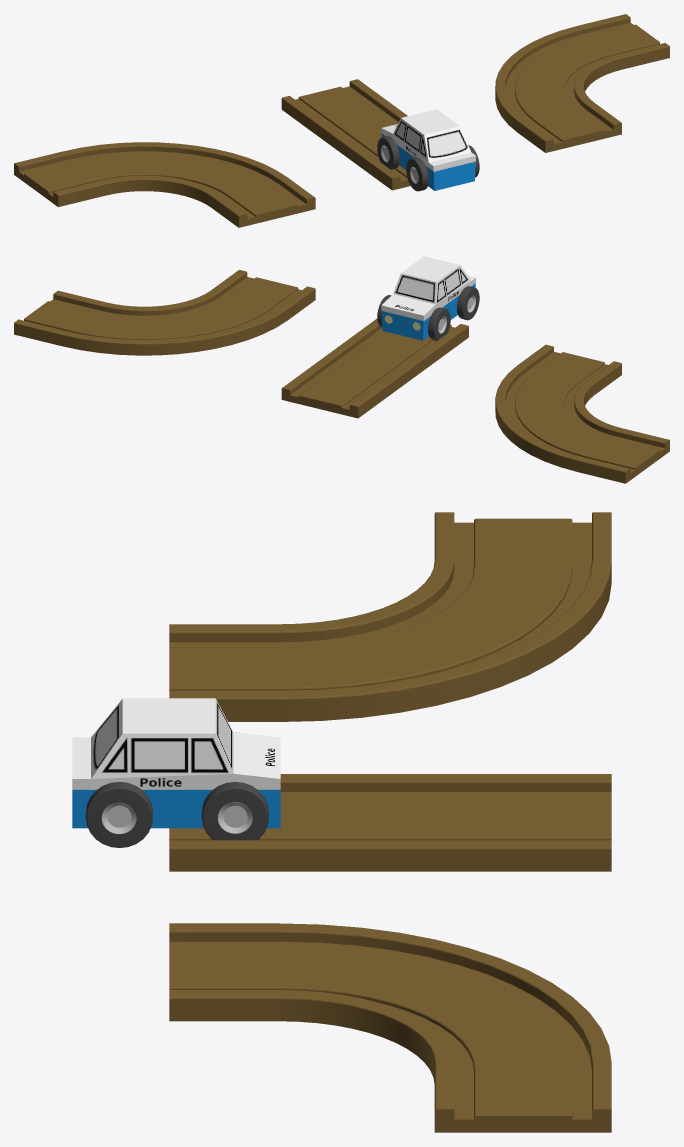
File: circuit.glb
The picture shows the model from 3 angles, top to bottom: view 1: azimuth 30°, elevation 25°; view 2: azimuth 150°, elevation 25°; view 3: azimuth 270°, elevation 25°; orthographic projection. The views are drawn at different scales.
Parts seen in each view (by area): view 1: Gauche, Droite, Ligne, voiture, voiture.roue.arriere, voiture.roue.avant; view 2: Droite, Gauche, Ligne, voiture, voiture.roue.avant, voiture.roue.arriere; view 3: Droite, Gauche, Ligne, voiture, voiture.roue.arriere, voiture.roue.avant.
Boxes of the visible parts, left/top/right/bottom form: Gauche: left=14, top=142, right=315, bottom=227; Droite: left=495, top=14, right=669, bottom=152; Ligne: left=281, top=79, right=410, bottom=190; voiture: left=381, top=109, right=475, bottom=190; voiture.roue.arriere: left=406, top=145, right=479, bottom=191; voiture.roue.avant: left=377, top=136, right=399, bottom=169; Droite: left=14, top=270, right=315, bottom=355; Gauche: left=495, top=344, right=669, bottom=483; Ligne: left=281, top=318, right=468, bottom=418; voiture: left=381, top=256, right=475, bottom=340; voiture.roue.avant: left=377, top=295, right=450, bottom=340; voiture.roue.arriere: left=457, top=286, right=479, bottom=320; Droite: left=169, top=923, right=611, bottom=1132; Gauche: left=169, top=512, right=611, bottom=721; Ligne: left=169, top=774, right=611, bottom=871; voiture: left=72, top=698, right=280, bottom=828; voiture.roue.arriere: left=85, top=782, right=152, bottom=847; voiture.roue.avant: left=201, top=732, right=268, bottom=840.
Size of the model in its own units: 15.96 by 1.47 by 6.1.
2 materials, 1 textured.
